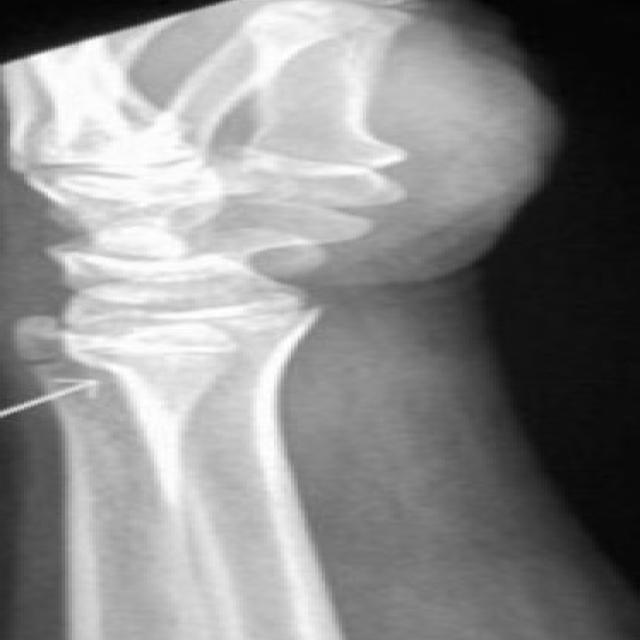Longitudinal: (46, 313, 225, 528)
